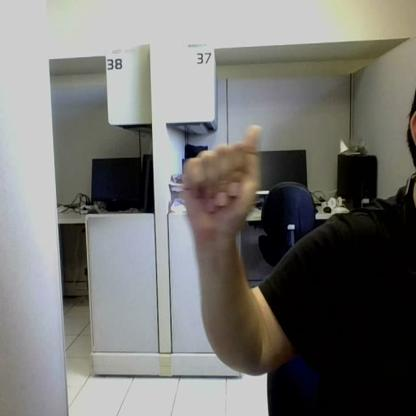A: (183, 126, 262, 230)
